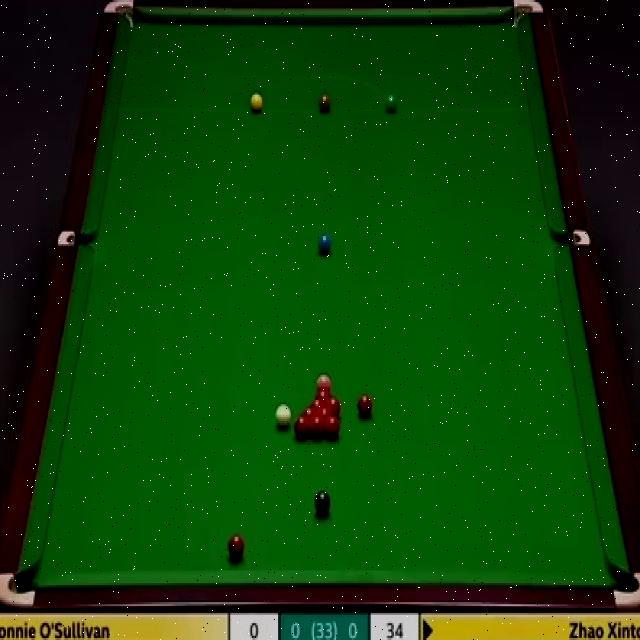black-ball: (314, 490, 332, 522)
blue-ball: (317, 232, 333, 257)
brown-ball: (318, 94, 332, 115)
green-ball: (384, 93, 398, 115)
pink-ball: (316, 374, 332, 386)
red-ball: (226, 534, 245, 562), (294, 415, 311, 440), (357, 394, 373, 419), (324, 415, 340, 440), (309, 415, 325, 437), (326, 398, 342, 416), (301, 406, 318, 419), (316, 407, 333, 419), (315, 388, 331, 400), (309, 398, 325, 410)
white-ball: (276, 401, 291, 429)
yellow-ball: (250, 92, 264, 114)
